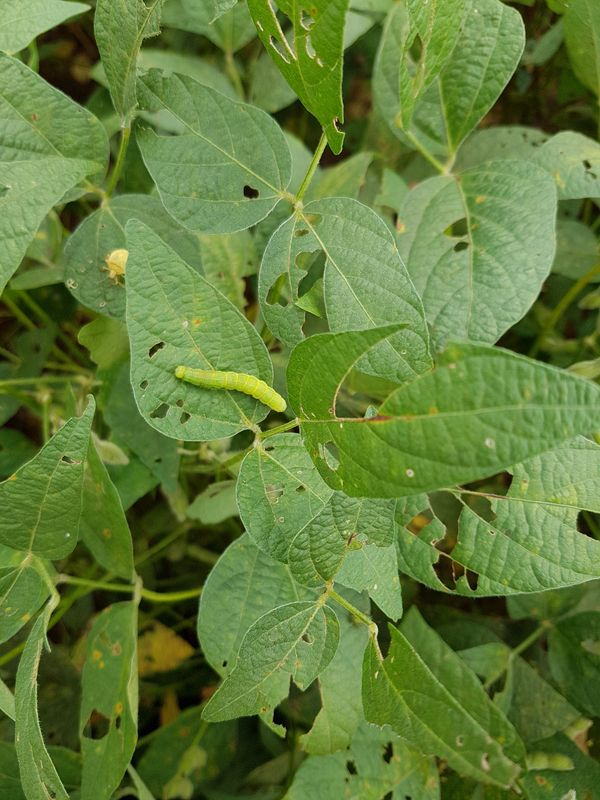Anticarsia_gemmatalis: (159, 344, 298, 434)
Euschistus_heros_ninfa: (94, 239, 142, 289)
